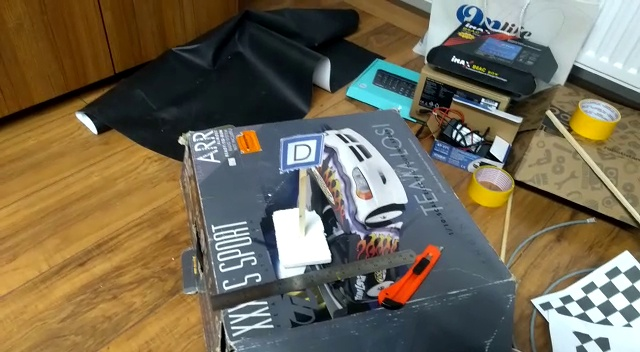durak: (276, 133, 328, 175)
